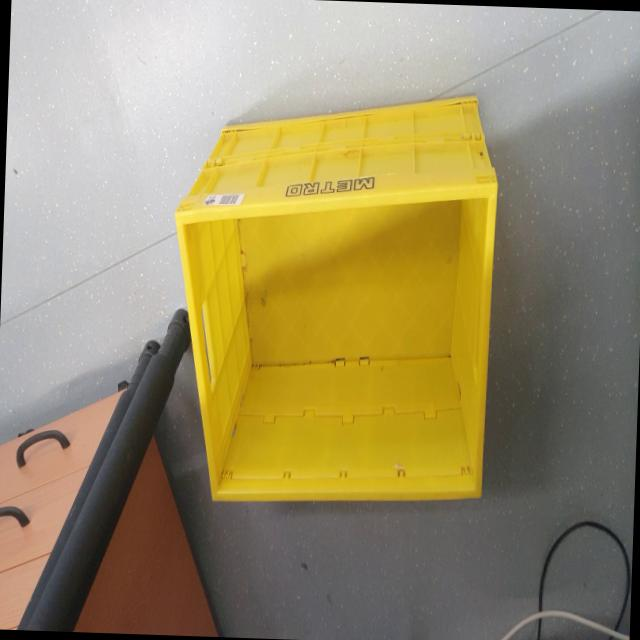box: (162, 79, 524, 524)
